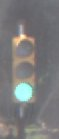Green: (10, 27, 38, 112)
